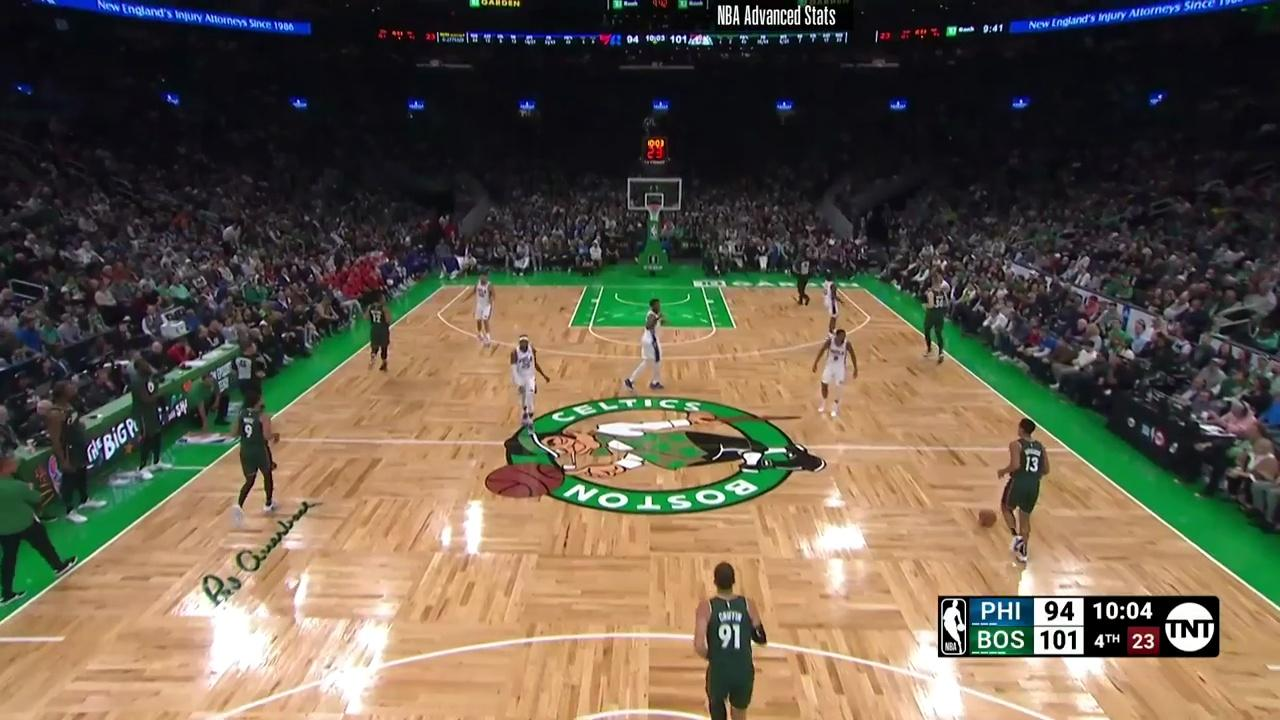Backboard: (626, 177, 683, 212)
Ball: (977, 509, 997, 528)
Basket: (646, 203, 662, 221)
Dribble: (979, 525, 994, 530)
Person: (693, 560, 768, 720), (996, 415, 1051, 566), (227, 389, 281, 529), (624, 298, 669, 396), (812, 328, 858, 419), (511, 336, 552, 427), (922, 280, 951, 365), (364, 293, 392, 373), (472, 271, 498, 343), (229, 342, 269, 387), (821, 271, 846, 330), (792, 251, 814, 307)
Shot Clock: (640, 136, 671, 166)
